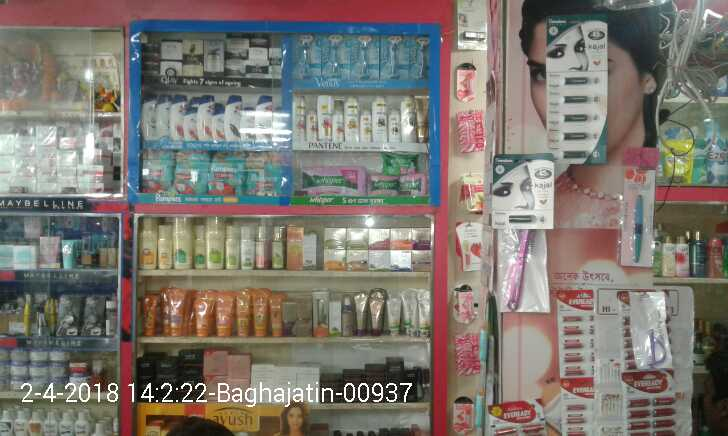venus: (292, 33, 321, 80), (321, 33, 350, 79), (379, 35, 408, 79), (350, 35, 379, 79), (409, 36, 430, 79)
